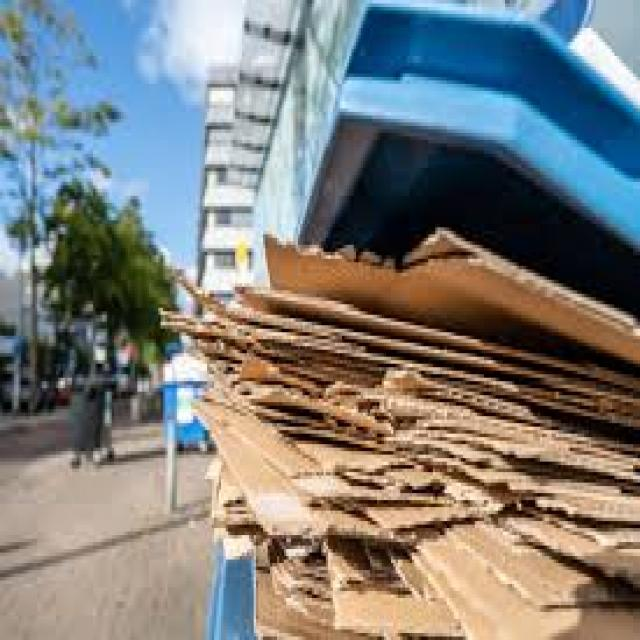Carton: (151, 219, 640, 640)
